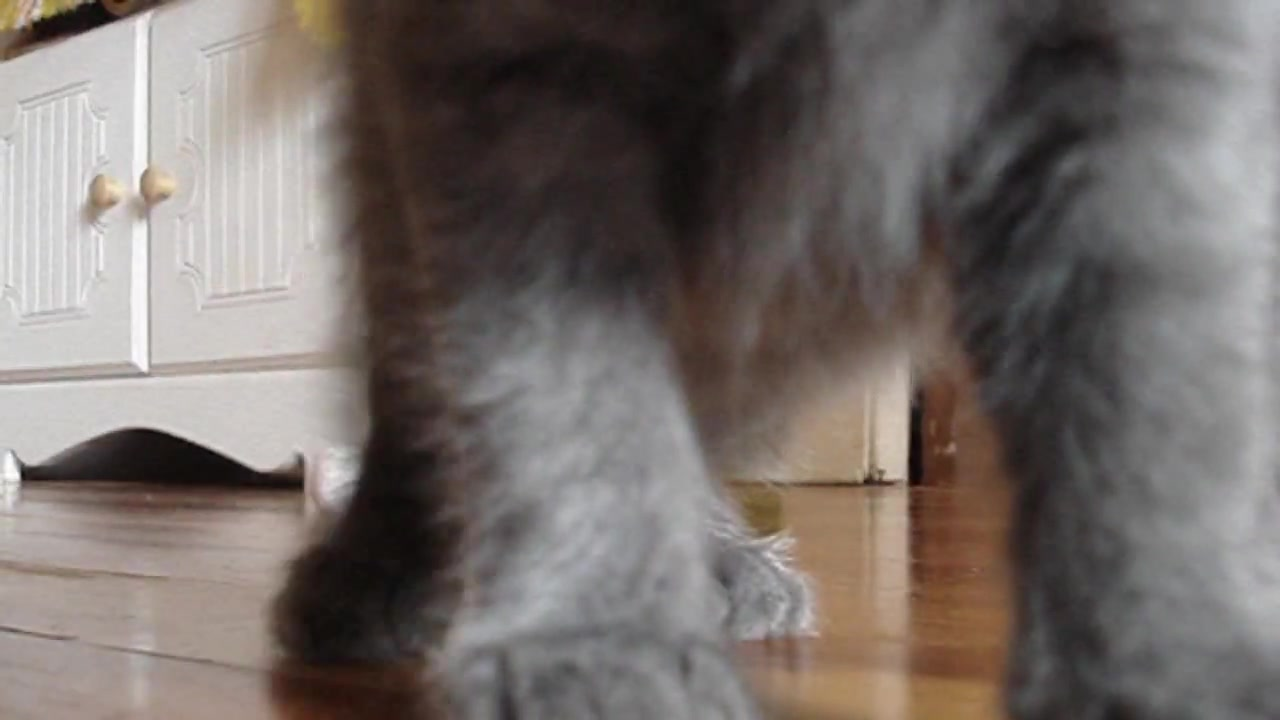cat: (264, 3, 1280, 720)
